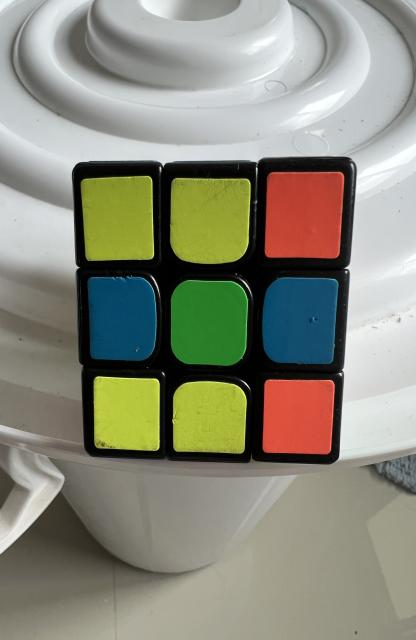Blue: (262, 278, 339, 365), (88, 276, 157, 361)
Green: (171, 280, 248, 366)
Orange: (264, 171, 344, 259), (262, 380, 335, 455)
Yellow: (170, 178, 250, 264), (80, 176, 154, 261), (172, 381, 247, 454), (93, 376, 159, 451)
